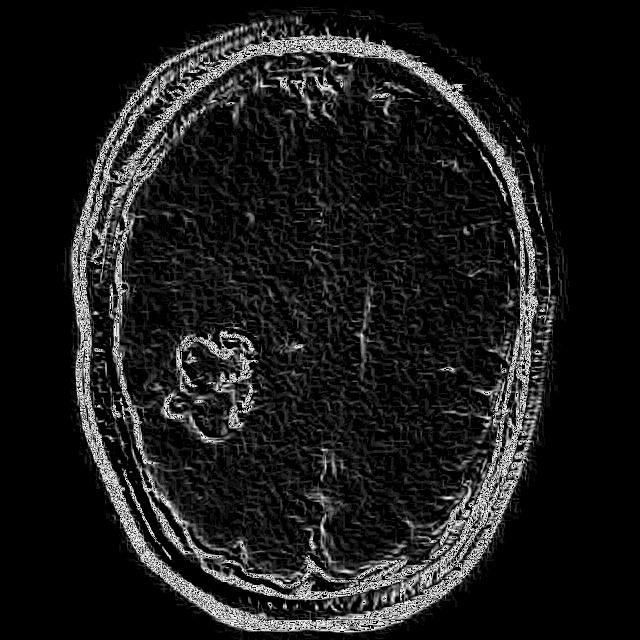Brain-Tumor: (149, 309, 273, 451)
